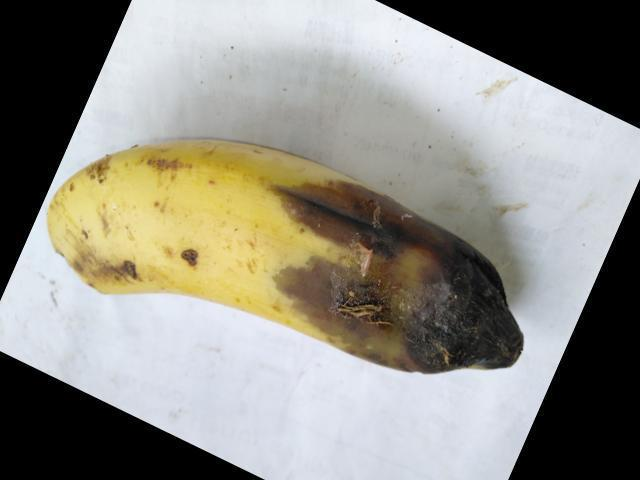rotten: (269, 165, 566, 430)
